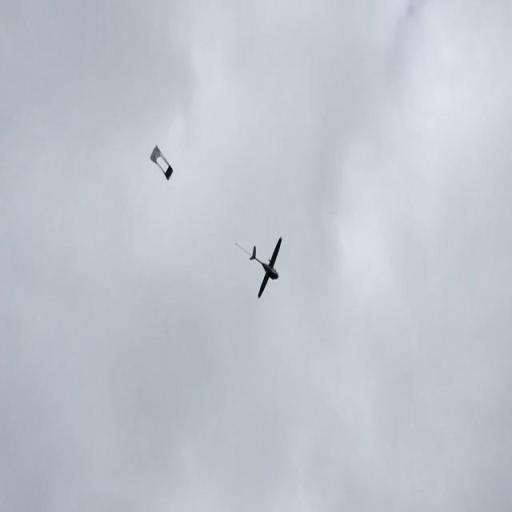uav: (240, 234, 292, 304)
